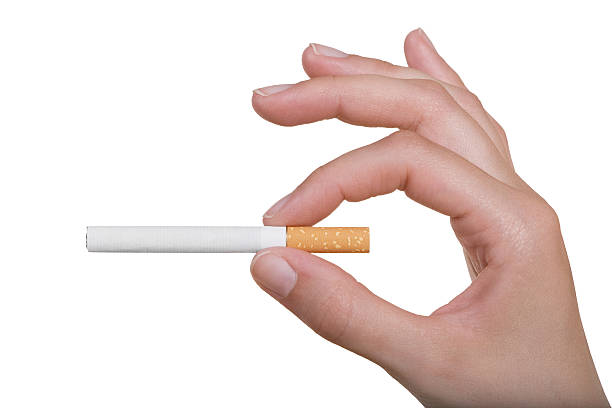cigarette: (84, 221, 378, 254)
